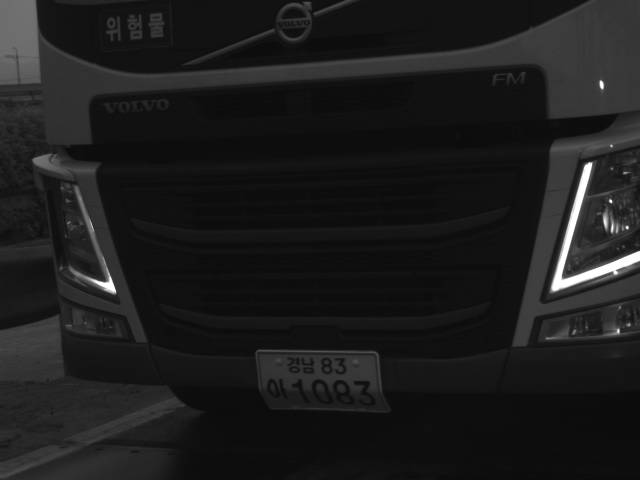car: (26, 1, 640, 427)
plate: (252, 348, 392, 416)
